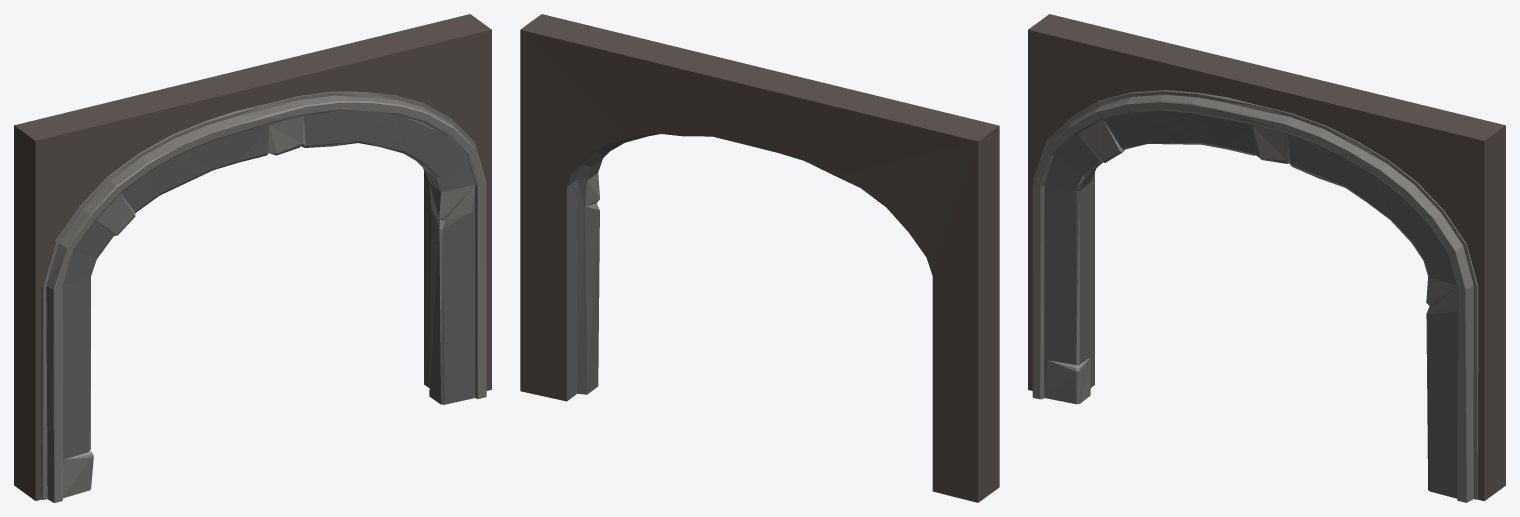
The model's file is MCastle_ArchDoors_01.FBX.
3 renders of one model, left to right at view 1: azimuth 30°, elevation 25°; view 2: azimuth 150°, elevation 25°; view 3: azimuth 330°, elevation 25°, orthographic.
Visible parts, largest first — view 1: MCastle_ArchDoors_01_LOD0; view 2: MCastle_ArchDoors_01_LOD0; view 3: MCastle_ArchDoors_01_LOD0.
Part boxes in pixels (x1=…): MCastle_ArchDoors_01_LOD0: x1=14, y1=14, x2=491, y2=502; MCastle_ArchDoors_01_LOD0: x1=520, y1=14, x2=999, y2=502; MCastle_ArchDoors_01_LOD0: x1=1028, y1=14, x2=1505, y2=502.
Size of what is drawn, in the model's own units: 5.97 by 4.5 by 0.6501.
